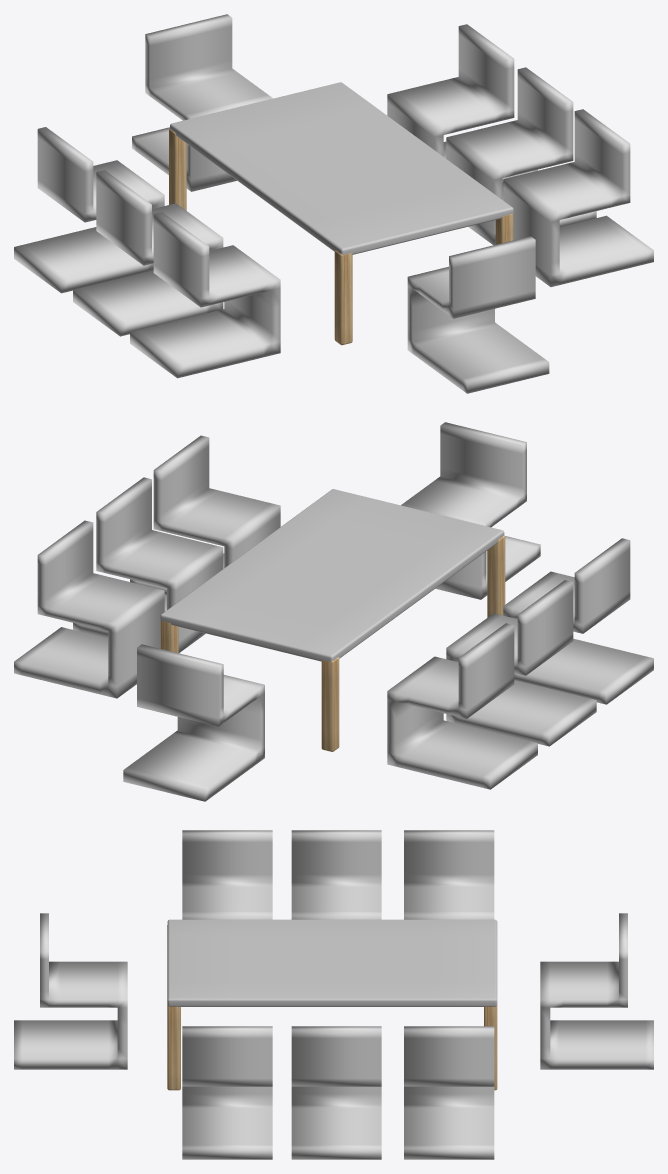
File: Table Chair.fbx
3 views of the same model, one above another, from view 1: azimuth 30°, elevation 25°; view 2: azimuth 150°, elevation 25°; view 3: azimuth 270°, elevation 25° (orthographic). The views are drawn at different scales.
Parts seen in each view (by area): view 1: Cube.4.2, Cube.7, Cube.3, Cube.6, Cube.8, Cube, Cube.2, Cube.5, Cube.4, Stand 3, Stand 4; view 2: Cube.4.2, Cube.8, Cube.4, Cube, Cube.7, Cube.2, Cube.3, Cube.5, Cube.6, Stand 4, Stand 3; view 3: Cube.4.2, Cube.4, Cube.5, Cube.6, Cube.7, Cube.8, Cube, Cube.2, Cube.3, Stand 1, Stand 2.
Boxes of the visible parts, left/top/right/bottom form: Cube.4.2: left=170, top=82, right=513, bottom=254; Cube.7: left=407, top=236, right=549, bottom=393; Cube.3: left=130, top=212, right=280, bottom=378; Cube.6: left=503, top=109, right=653, bottom=286; Cube.8: left=132, top=14, right=272, bottom=191; Cube: left=14, top=127, right=164, bottom=293; Cube.2: left=73, top=170, right=223, bottom=336; Cube.5: left=446, top=67, right=596, bottom=245; Cube.4: left=387, top=24, right=537, bottom=184; Stand 3: left=334, top=250, right=352, bottom=345; Stand 4: left=169, top=128, right=186, bottom=210; Cube.4.2: left=160, top=489, right=504, bottom=661; Cube.8: left=123, top=644, right=264, bottom=801; Cube.4: left=14, top=520, right=164, bottom=698; Cube: left=387, top=623, right=537, bottom=789; Cube.7: left=401, top=422, right=540, bottom=599; Cube.2: left=446, top=580, right=596, bottom=746; Cube.3: left=503, top=538, right=653, bottom=704; Cube.5: left=73, top=477, right=223, bottom=652; Cube.6: left=130, top=435, right=280, bottom=595; Stand 4: left=321, top=657, right=339, bottom=751; Stand 3: left=487, top=535, right=505, bottom=617; Cube.4.2: left=167, top=919, right=497, bottom=1006; Cube.4: left=404, top=1026, right=494, bottom=1159; Cube.5: left=291, top=1026, right=381, bottom=1159; Cube.6: left=182, top=1026, right=272, bottom=1159; Cube.7: left=14, top=913, right=127, bottom=1069; Cube.8: left=540, top=913, right=653, bottom=1069; Cube: left=404, top=830, right=494, bottom=919; Cube.2: left=291, top=830, right=381, bottom=919; Cube.3: left=182, top=830, right=272, bottom=919; Stand 1: left=167, top=1000, right=180, bottom=1090; Stand 2: left=484, top=1005, right=497, bottom=1090.
Size of the model in its own units: 1140 by 284 by 1389.
2 materials, 1 textured.
